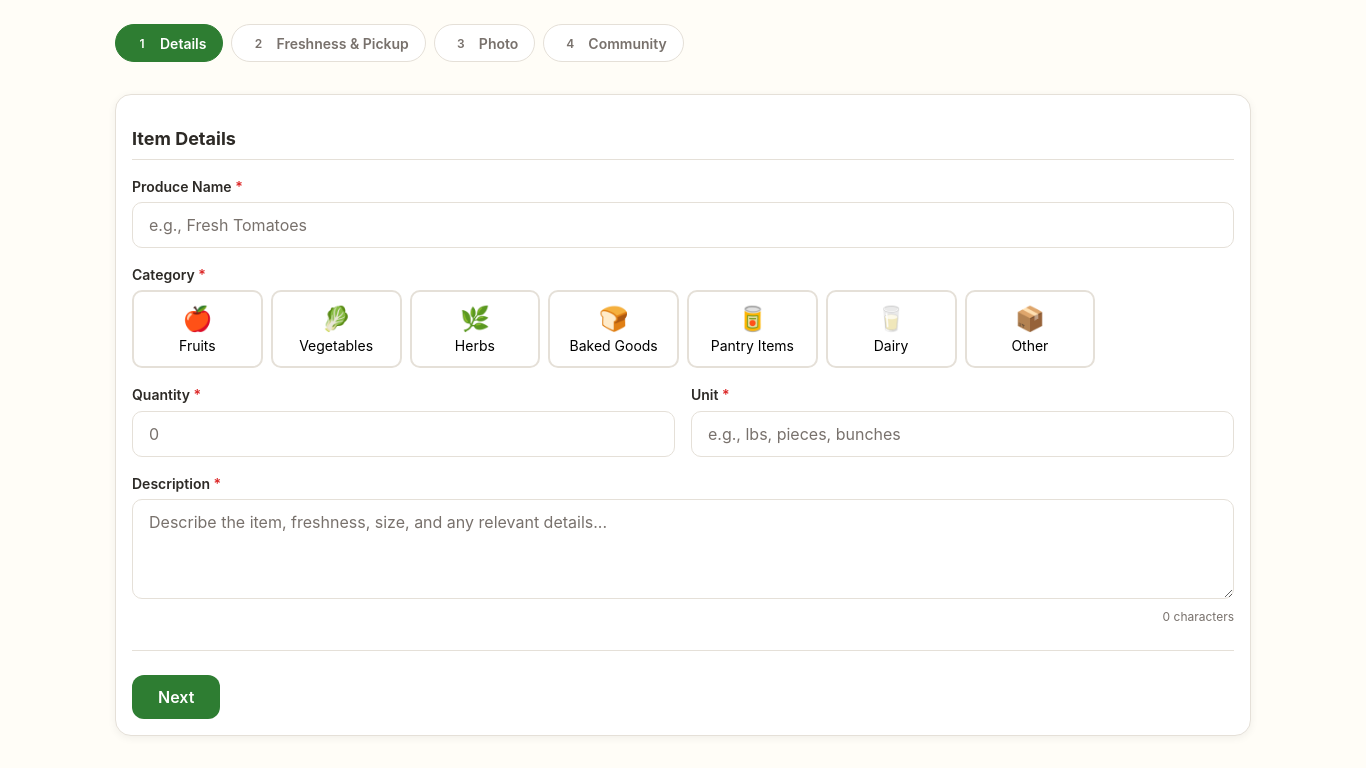
CreateListing › step navigation › can navigate to next step
This screenshot has width=1366, height=768.
(page scrolled)
What coordinates should you click on to do the following:
click the button "Next"
I would click on:
 (176, 697)
Its box is x1=132 y1=675 x2=220 y2=719.
(page scrolled)
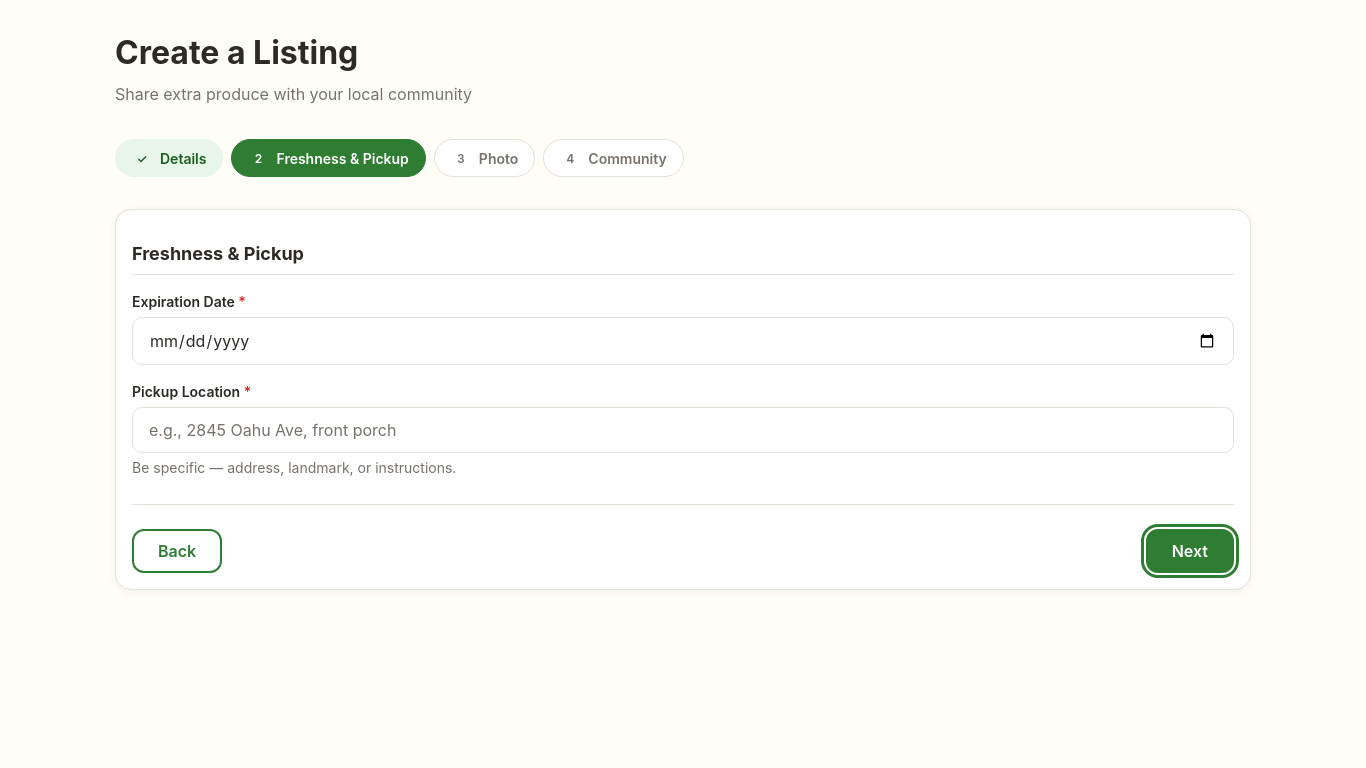
Now the heading "Freshness & Pickup" is shown, box x1=132 y1=242 x2=1234 y2=275
Now the date field labelled "Expiration Date *" is shown, box x1=132 y1=317 x2=1234 y2=365
